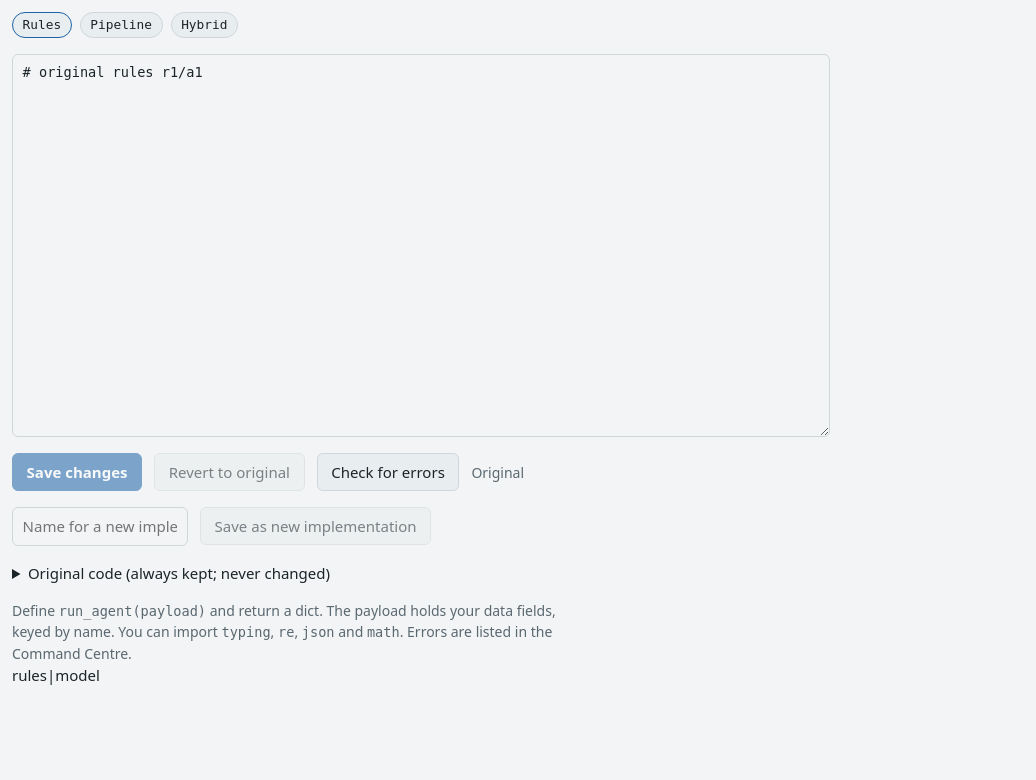
it: CodePanel revert (built-ins) › reverts unsaved edits to the original
The width and height of the screenshot is (1036, 780).
Replace the text in the text box named "Python Source" with "x = 1": (421,246) [12,54,830,437]
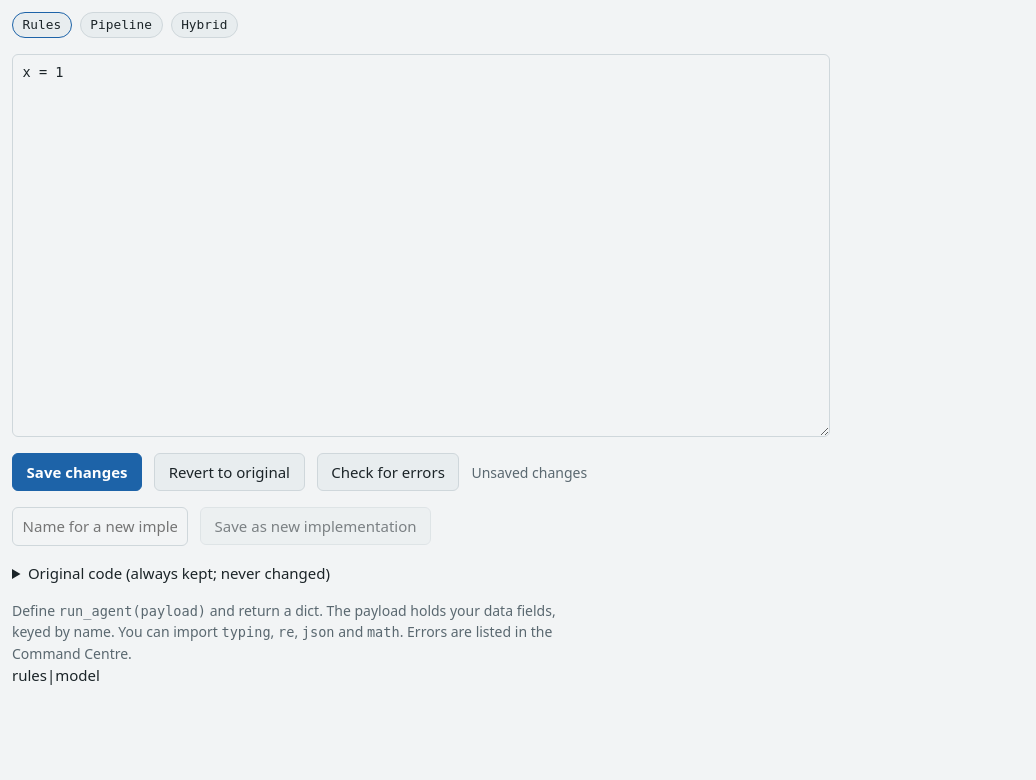
Expected: the button "Revert to original" is enabled
Click the button "Revert to original": (229,472) [154,453,305,491]
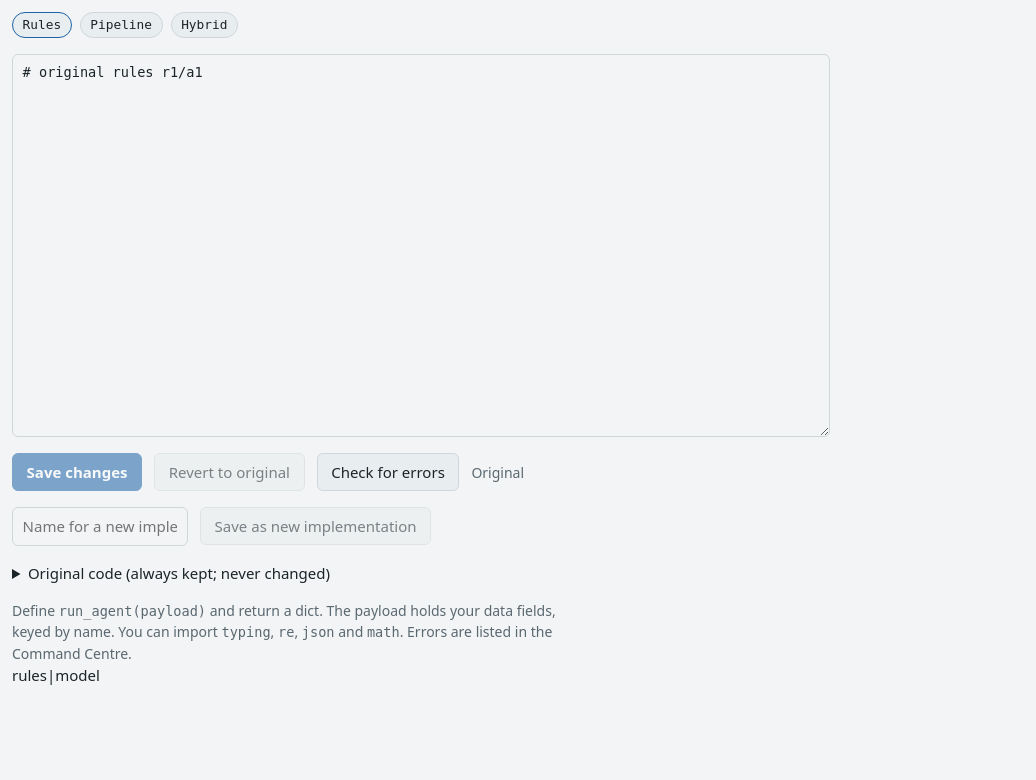
Expected: the message with class "hint" reads "Original", [471,462,524,482]
